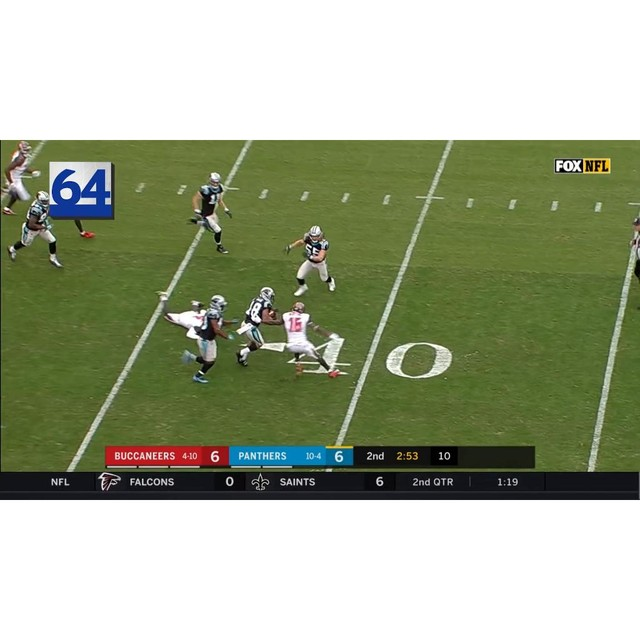american-football-player: (179, 295, 231, 383), (282, 299, 336, 380), (6, 190, 62, 267), (186, 172, 232, 254), (284, 227, 336, 297), (234, 287, 278, 367), (1, 142, 41, 215)
referee: (629, 216, 640, 302)
